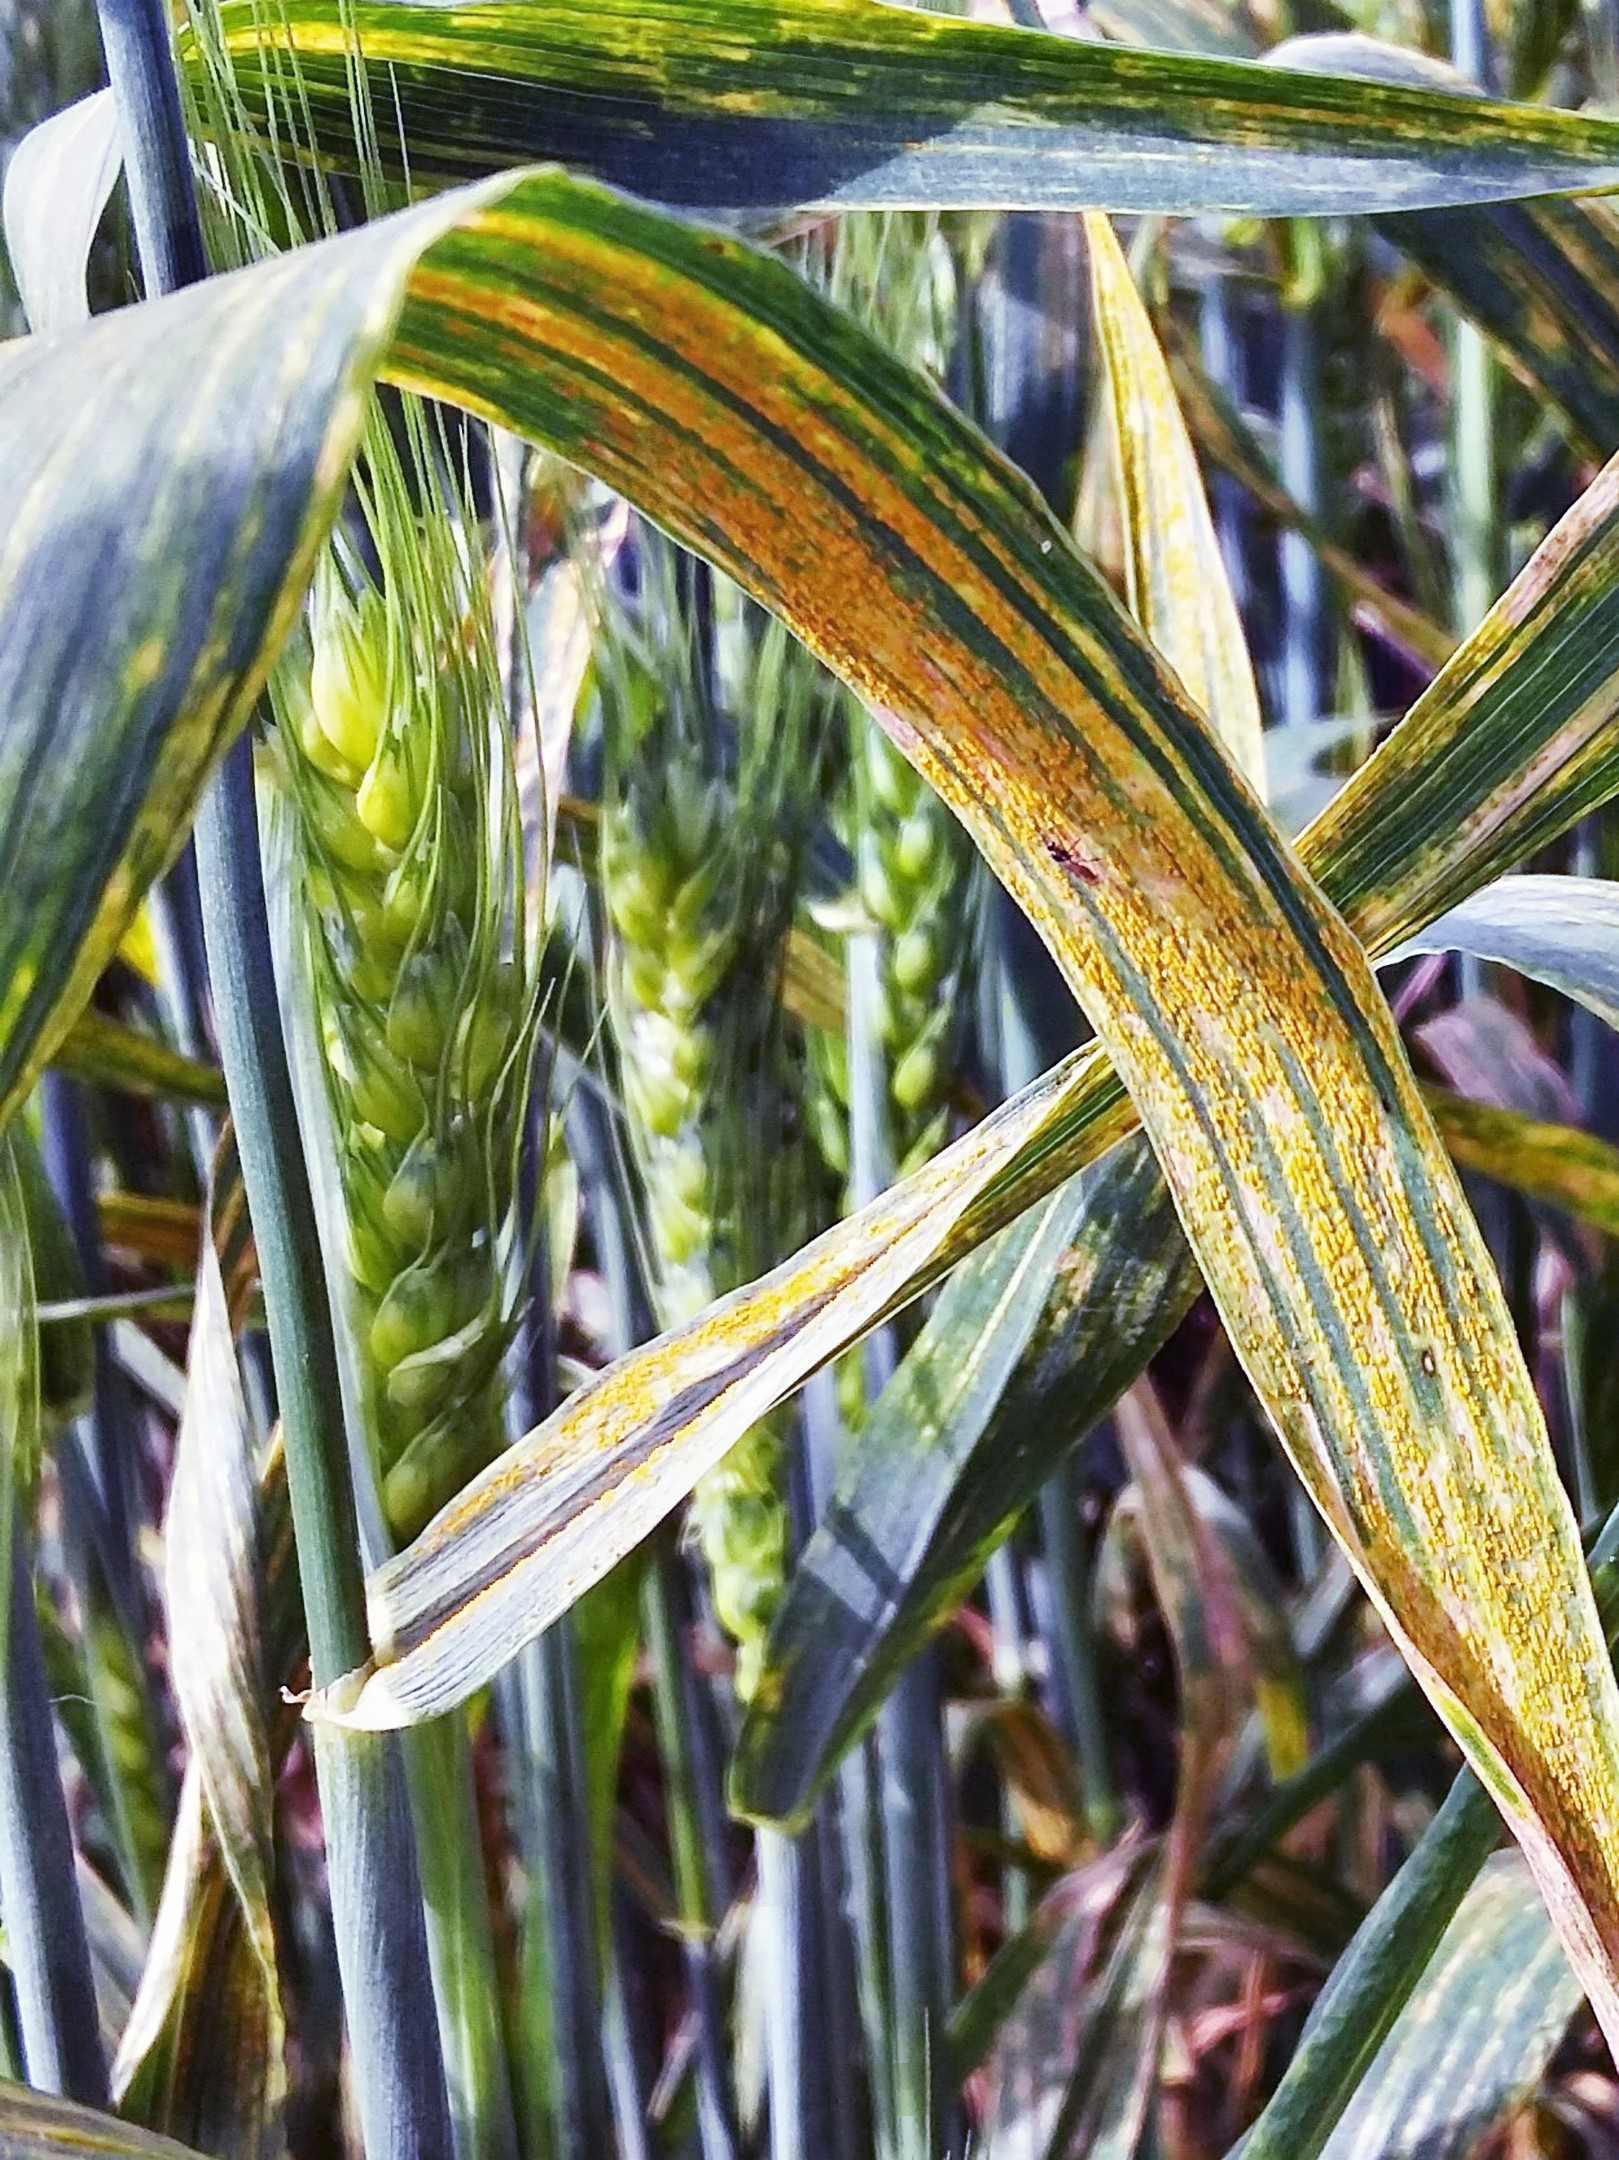Leaf Rust: (1049, 886, 1619, 1947)
